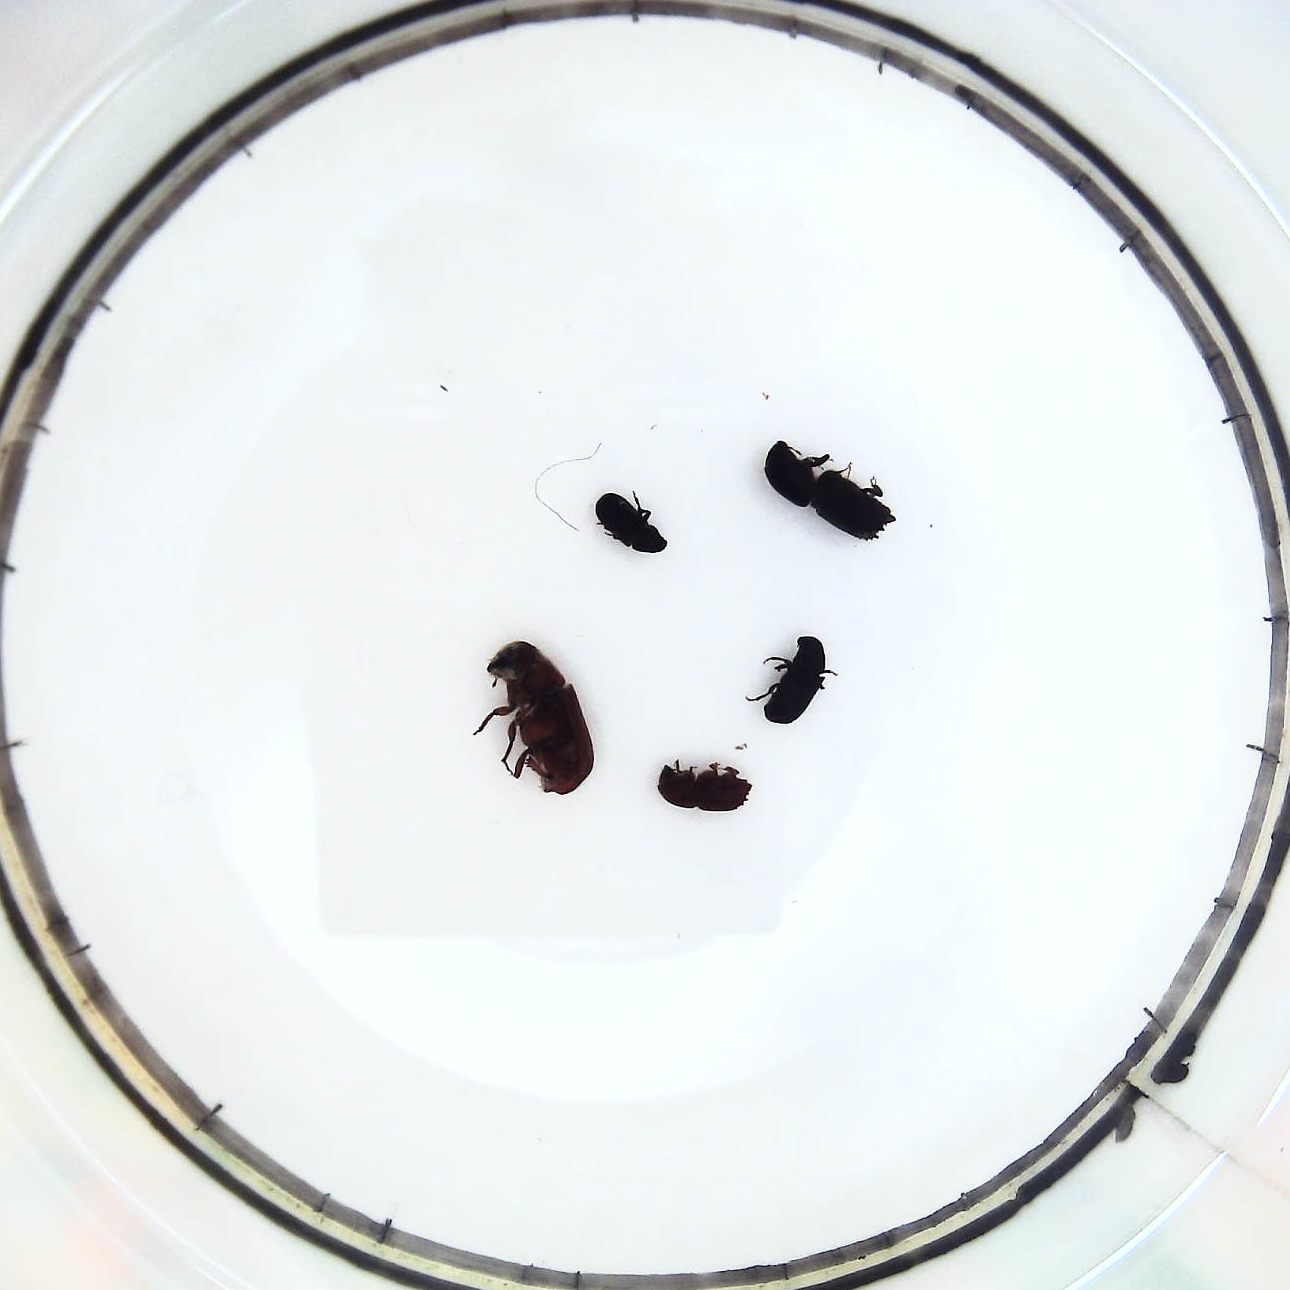Boerner: (760, 434, 897, 548)
Leconte: (473, 636, 599, 804)
armandi: (748, 631, 843, 727)
coleoptera: (587, 486, 670, 558)
linnaeus: (653, 756, 758, 819)
